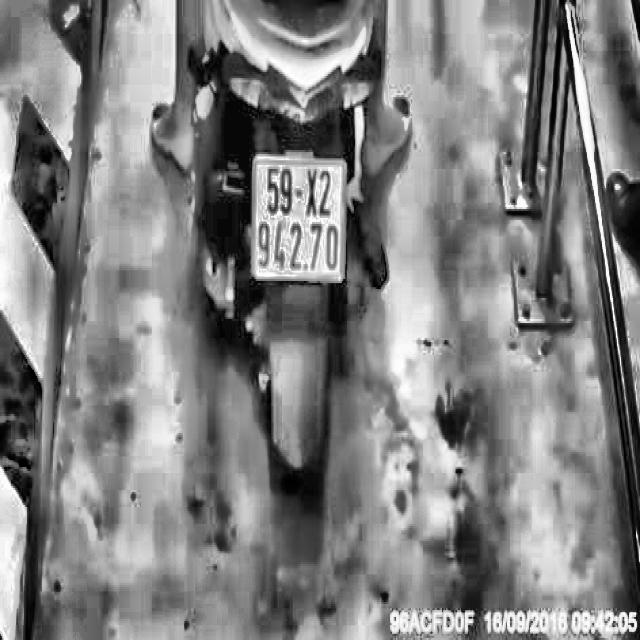plate: (248, 147, 350, 292)
